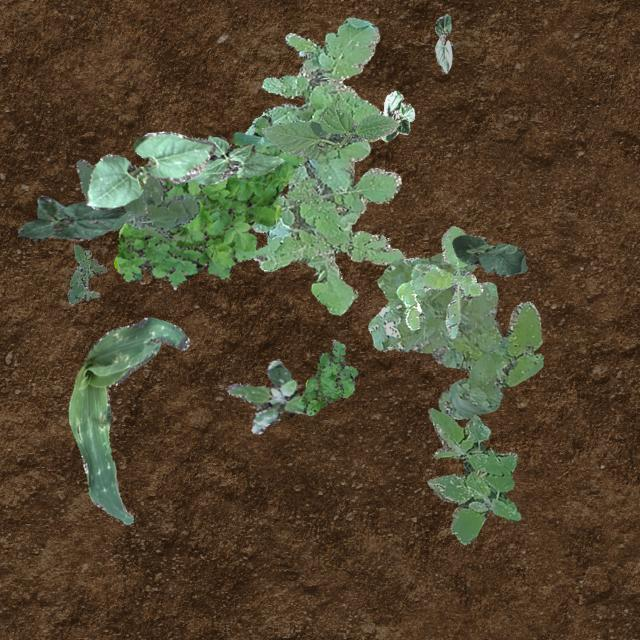crop: (66, 316, 188, 524), (84, 130, 214, 208), (261, 96, 398, 158), (16, 194, 130, 240), (182, 134, 282, 184), (452, 233, 526, 276), (381, 90, 414, 140), (434, 14, 452, 72)
weed: (243, 17, 404, 314), (112, 114, 302, 288), (368, 252, 542, 418), (426, 406, 520, 544), (74, 158, 198, 242), (396, 225, 482, 336), (226, 358, 304, 432), (296, 338, 358, 414), (66, 244, 105, 304)
